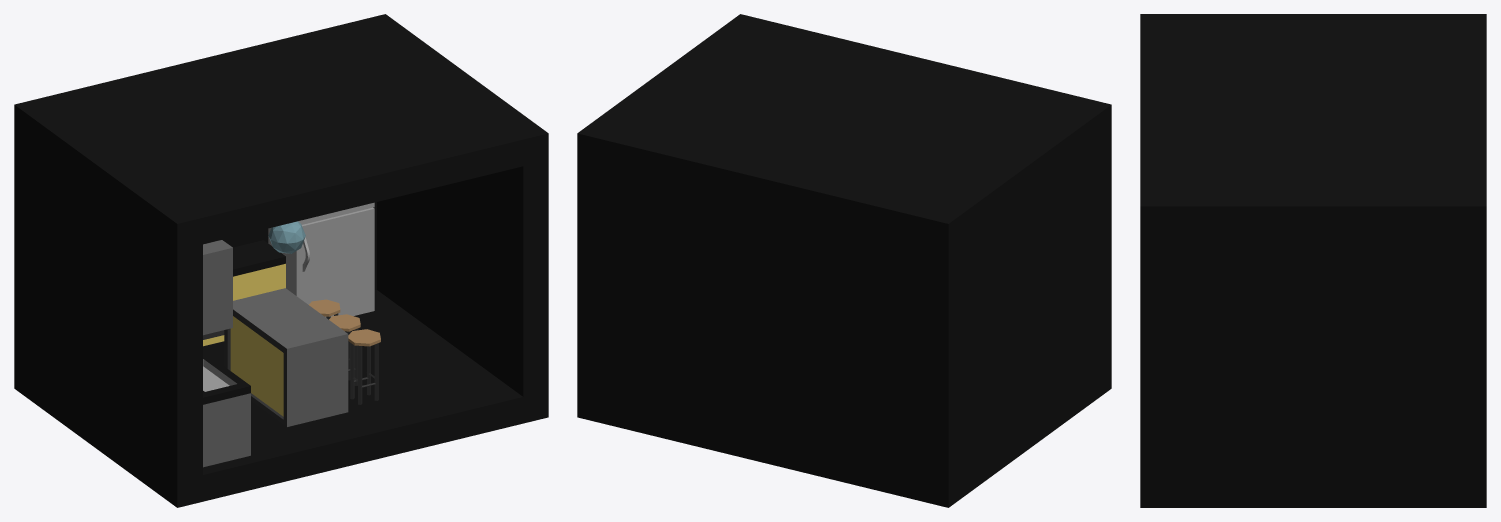
File: cozinha_6m_fixed.glb
3 renders of one model, left to right at view 1: azimuth 30°, elevation 25°; view 2: azimuth 150°, elevation 25°; view 3: azimuth 270°, elevation 25°, orthographic. The views are drawn at different scales.
Parts seen in each view (by area): view 1: Box004_y0jIn6, Box004_y0gsr1, Box004_y0jsKV, Box004_y0gcn2, Box004_y0gxqZ, Box004_y0is7s, Box004_y0iuZK; view 2: Box004_y0jIn6; view 3: Box004_y0jIn6.
Boxes of the visible parts, x1,y1,x2,y2 form: Box004_y0jIn6: [14, 14, 548, 507]; Box004_y0gsr1: [203, 240, 348, 467]; Box004_y0jsKV: [203, 202, 374, 391]; Box004_y0gcn2: [203, 263, 285, 416]; Box004_y0gxqZ: [203, 309, 378, 426]; Box004_y0is7s: [309, 299, 380, 346]; Box004_y0iuZK: [268, 221, 305, 253]; Box004_y0jIn6: [577, 14, 1111, 507]; Box004_y0jIn6: [1140, 14, 1486, 507].
Bounding box in the file's own units: 6 × 4.38 × 4.57.
